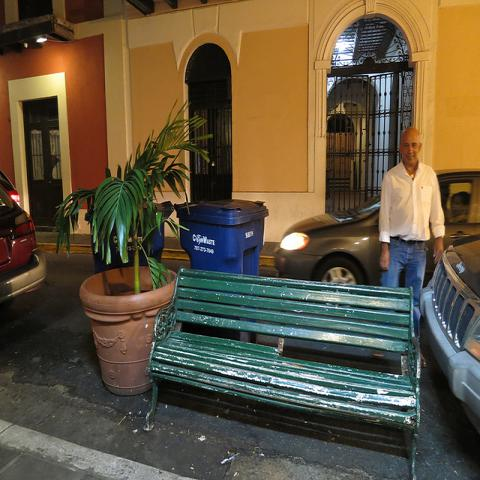car: (273, 167, 479, 289), (418, 228, 480, 430), (0, 174, 47, 301), (0, 168, 20, 207)
truck: (419, 235, 479, 437)
